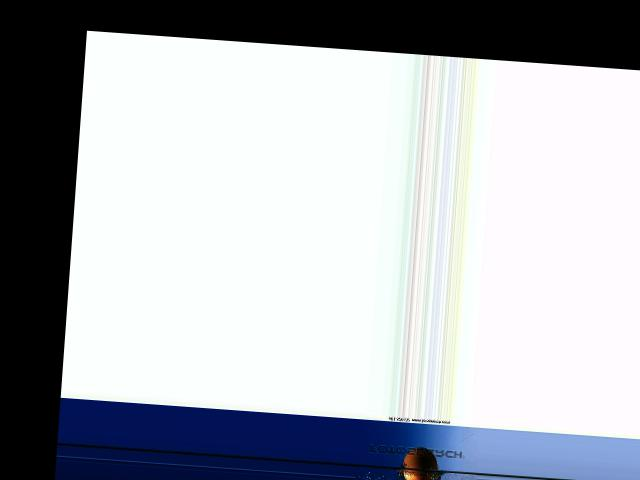egg: (401, 446, 439, 480)
